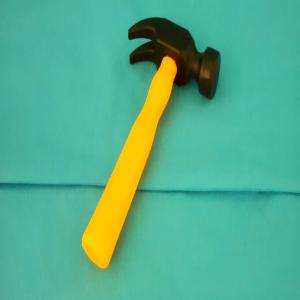martelo: (82, 17, 221, 270)
